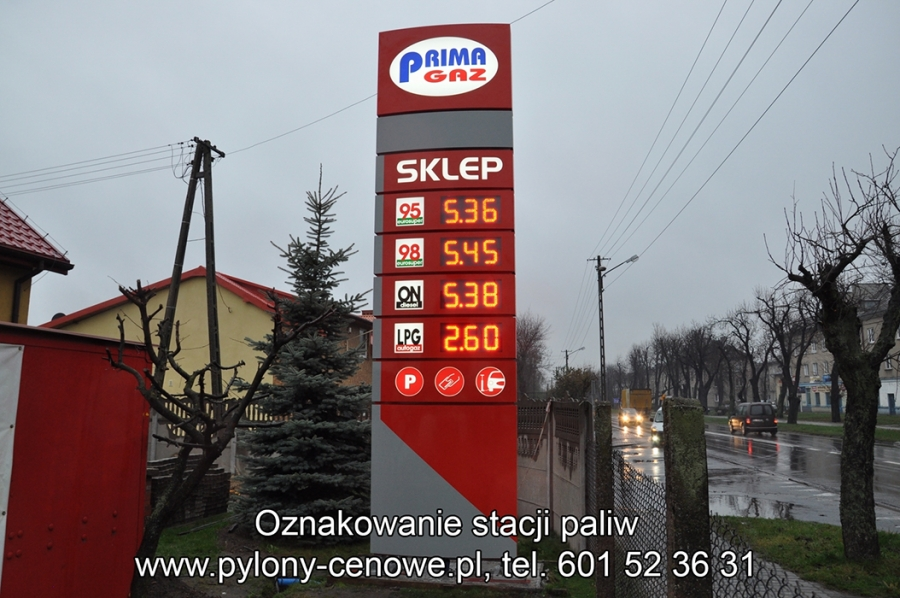LPG: (392, 323, 424, 353)
ON: (393, 278, 424, 307)
PB95: (393, 197, 425, 225)
PB98: (393, 236, 424, 267)
